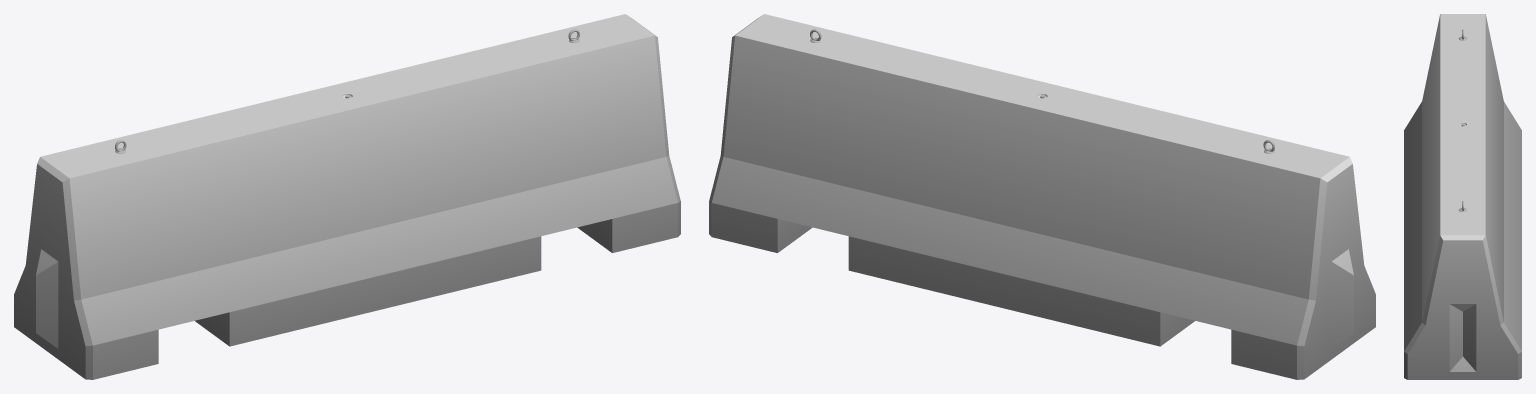
File: concrete_jersey_barrier_01_medium.glb
3 views of the same model, side by side, from view 1: azimuth 30°, elevation 25°; view 2: azimuth 150°, elevation 25°; view 3: azimuth 270°, elevation 25° (orthographic). The views are drawn at different scales.
Parts seen in each view (by area): view 1: concrete_jersey_barrier_01_medium; view 2: concrete_jersey_barrier_01_medium; view 3: concrete_jersey_barrier_01_medium.
Part boxes in pixels (x1=…): concrete_jersey_barrier_01_medium: x1=14, y1=14, x2=680, y2=379; concrete_jersey_barrier_01_medium: x1=709, y1=14, x2=1375, y2=379; concrete_jersey_barrier_01_medium: x1=1404, y1=14, x2=1521, y2=379.
Bounding box in the file's own units: 2.87 × 0.88 × 0.62.
Materials: 2 (2 with a texture image).
